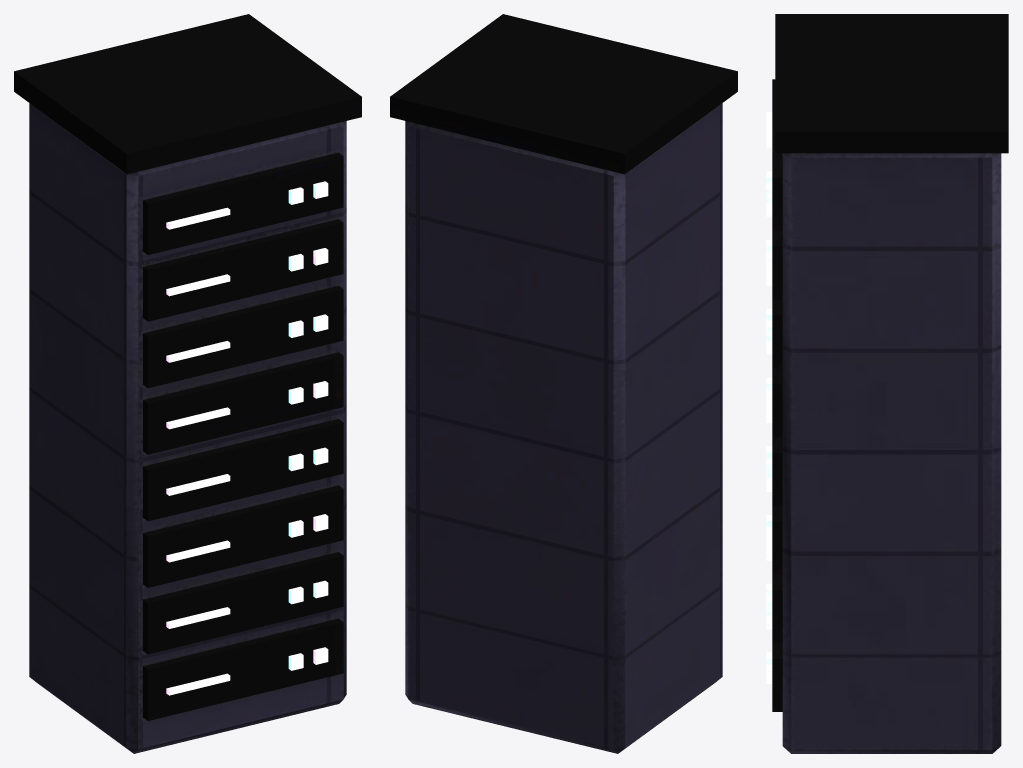
File: rack_servidor.glb
The picture shows the model from 3 angles, left to right: view 1: azimuth 30°, elevation 25°; view 2: azimuth 150°, elevation 25°; view 3: azimuth 270°, elevation 25°; orthographic projection. The views are drawn at different scales.
Parts seen in each view (by area): view 1: rack_servidor; view 2: rack_servidor; view 3: rack_servidor.
Boxes of the visible parts, x1=… form: rack_servidor: x1=14, y1=14, x2=361, y2=753; rack_servidor: x1=390, y1=14, x2=737, y2=753; rack_servidor: x1=766, y1=14, x2=1008, y2=753.
Size of the model in its own units: 0.96 by 2.38 by 0.83.
1 material, 1 textured.
